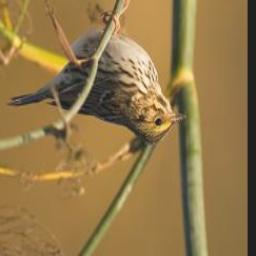Sparrow: (4, 0, 186, 149)
